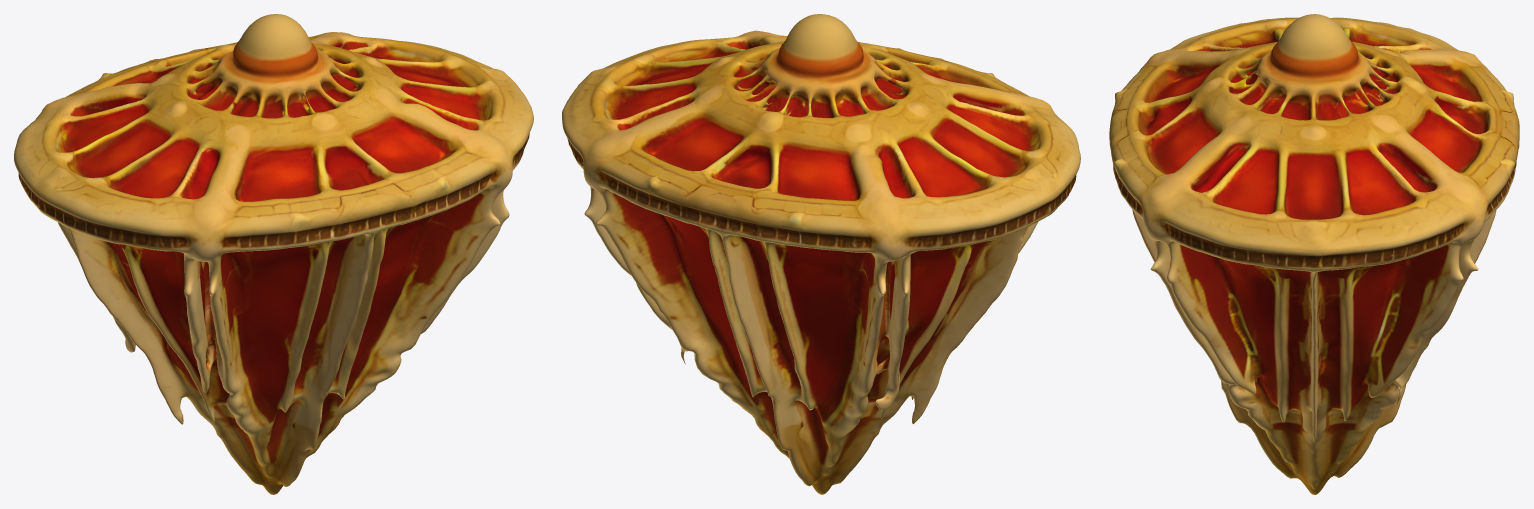
Rendered from enemy-boss.glb.
3 views of the same model, side by side, from view 1: azimuth 30°, elevation 25°; view 2: azimuth 150°, elevation 25°; view 3: azimuth 270°, elevation 25° (orthographic).
Parts seen in each view (by area): view 1: model; view 2: model; view 3: model.
Part boxes in pixels (box(x1,y1,x2,y2)): model: box(14, 14, 533, 494); model: box(562, 14, 1080, 494); model: box(1109, 14, 1519, 494).
Bounding box in the file's own units: 1.89 × 1.83 × 1.42.
Materials: 1 (1 with a texture image).
